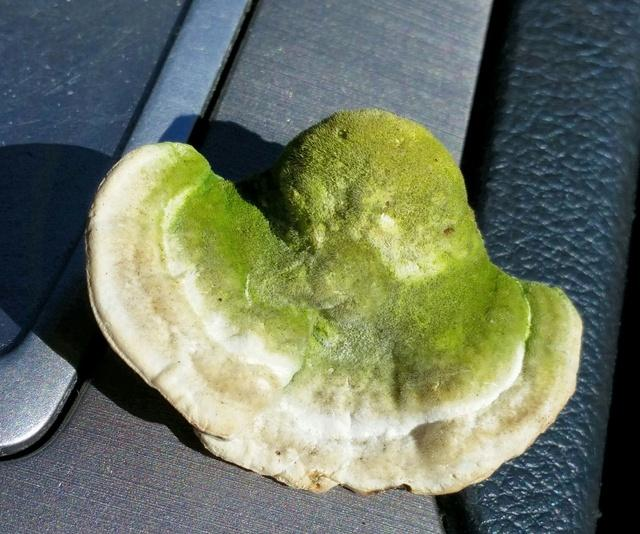Non-edible Mushroom: (82, 105, 584, 497)
